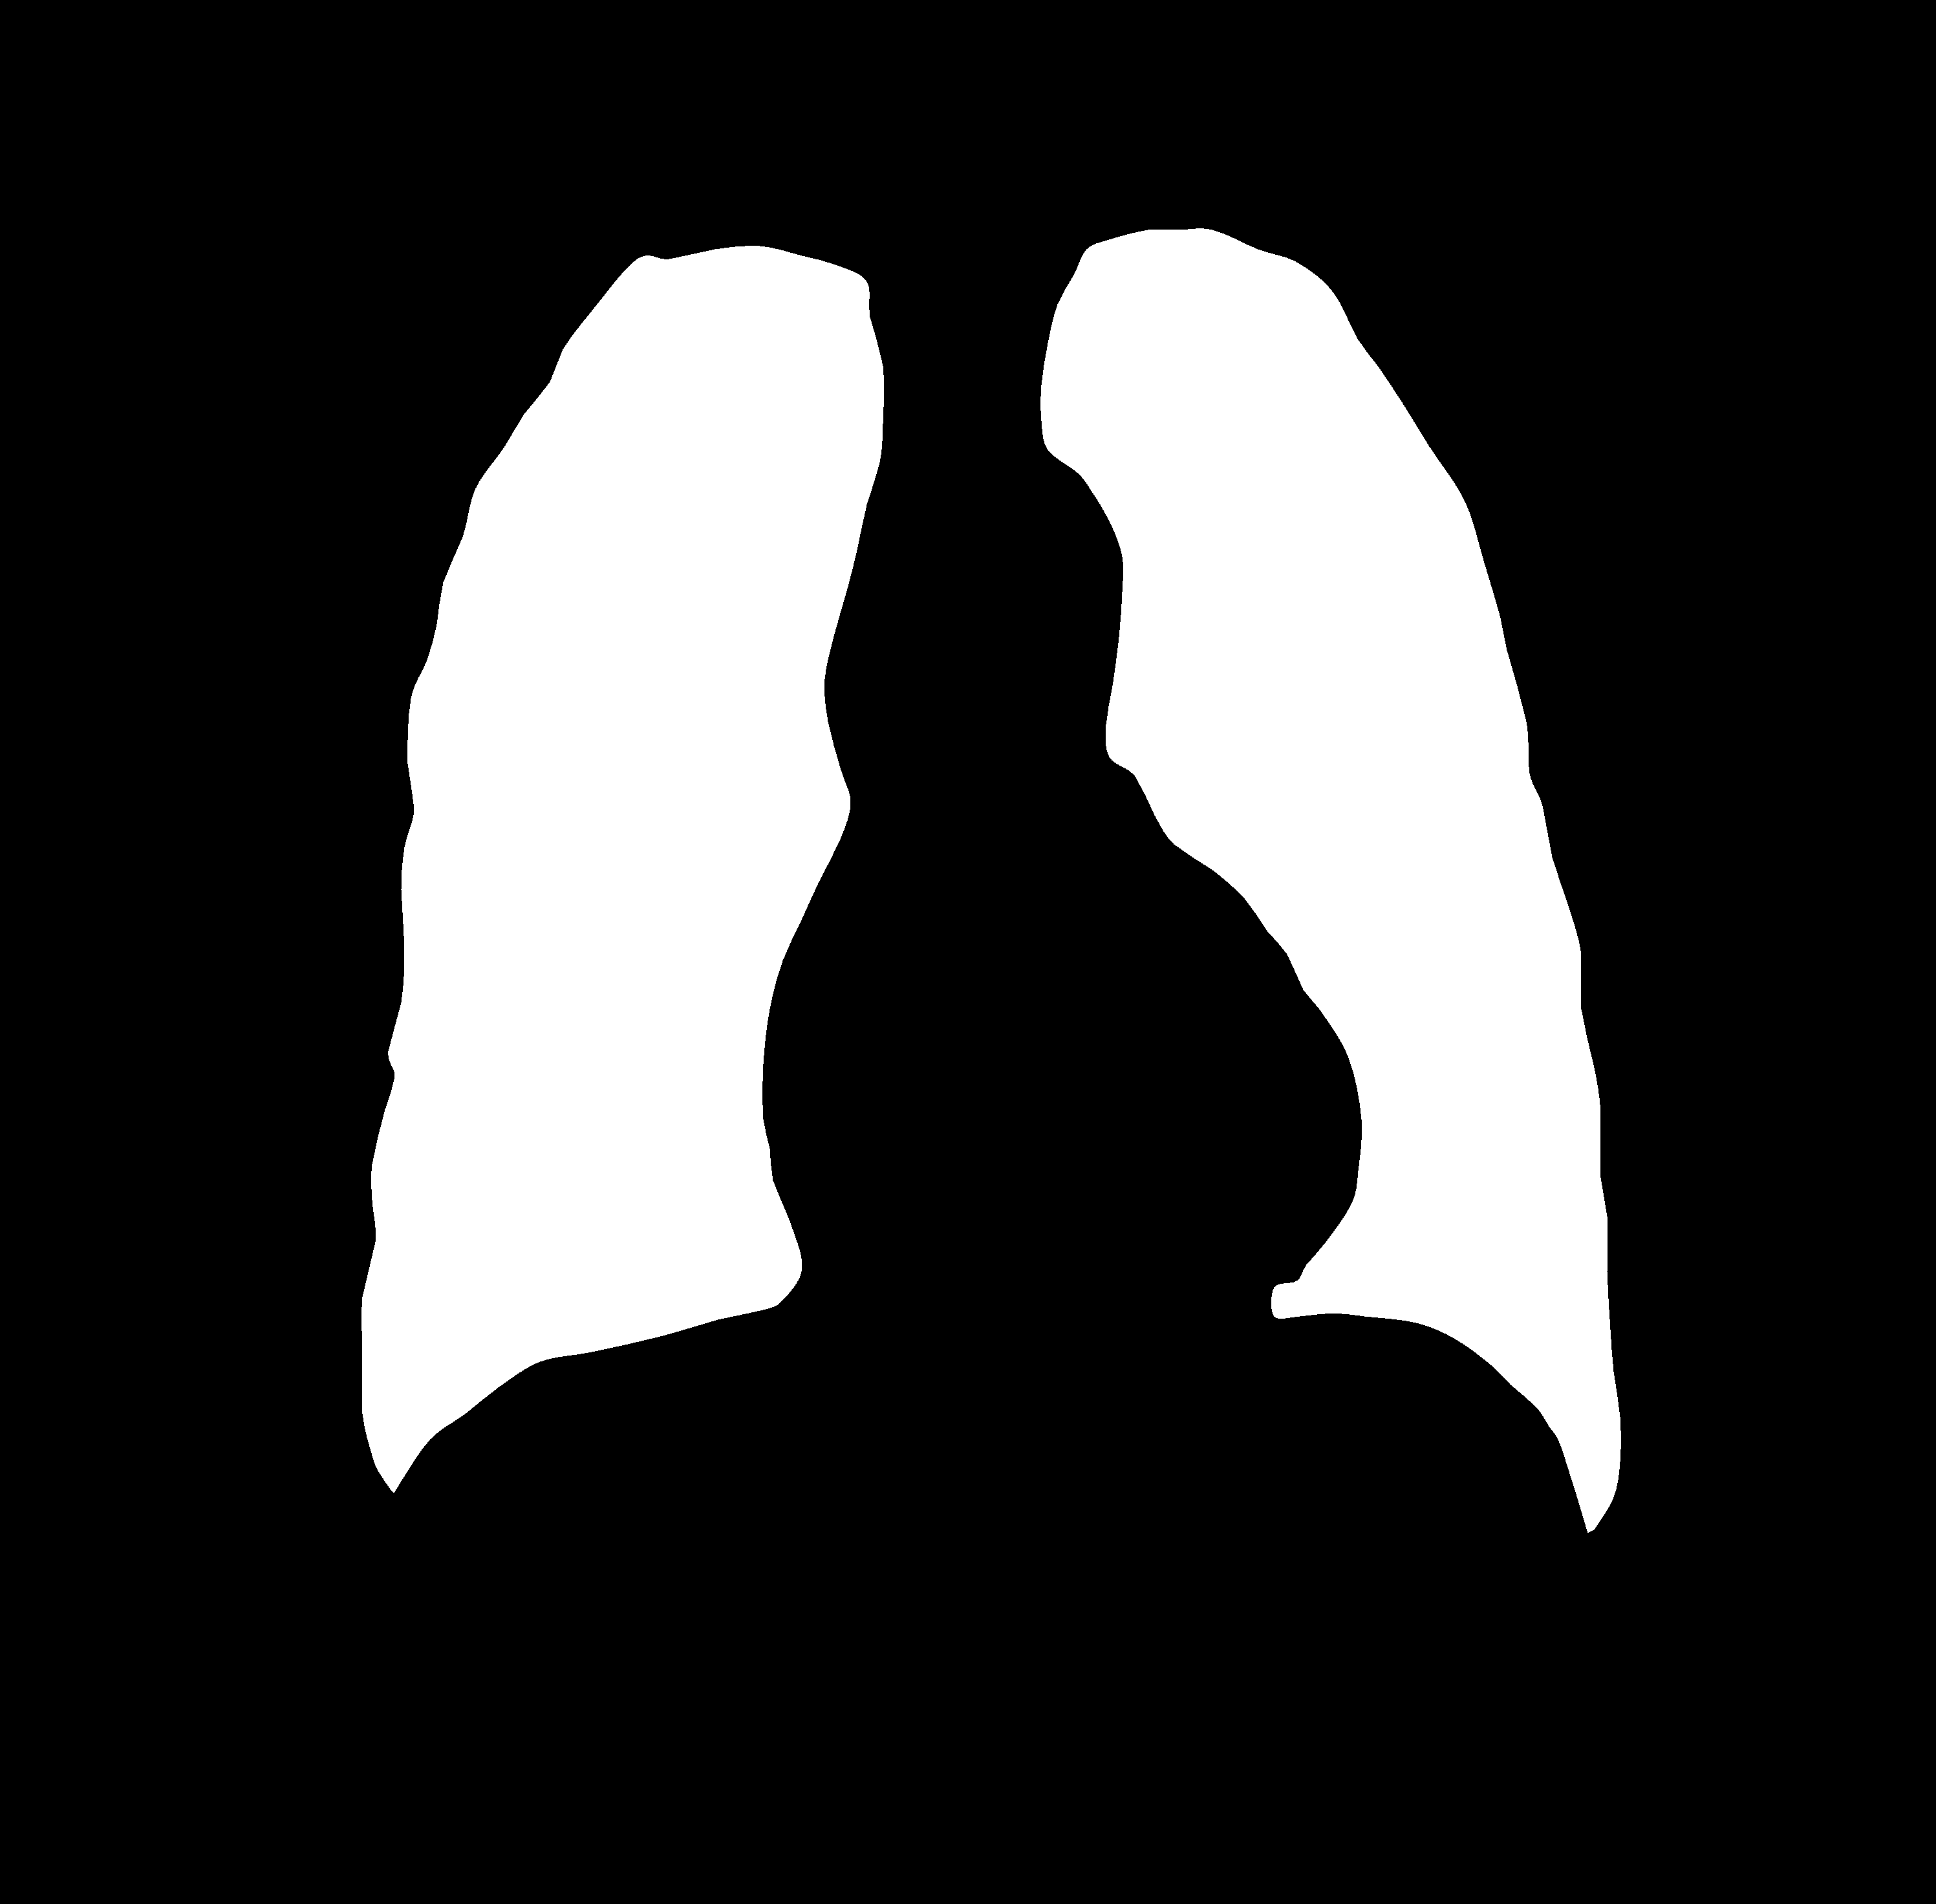heart: (760, 818, 1371, 1334)
left_lung: (364, 246, 883, 1486)
right_lung: (1040, 228, 1624, 1512)
